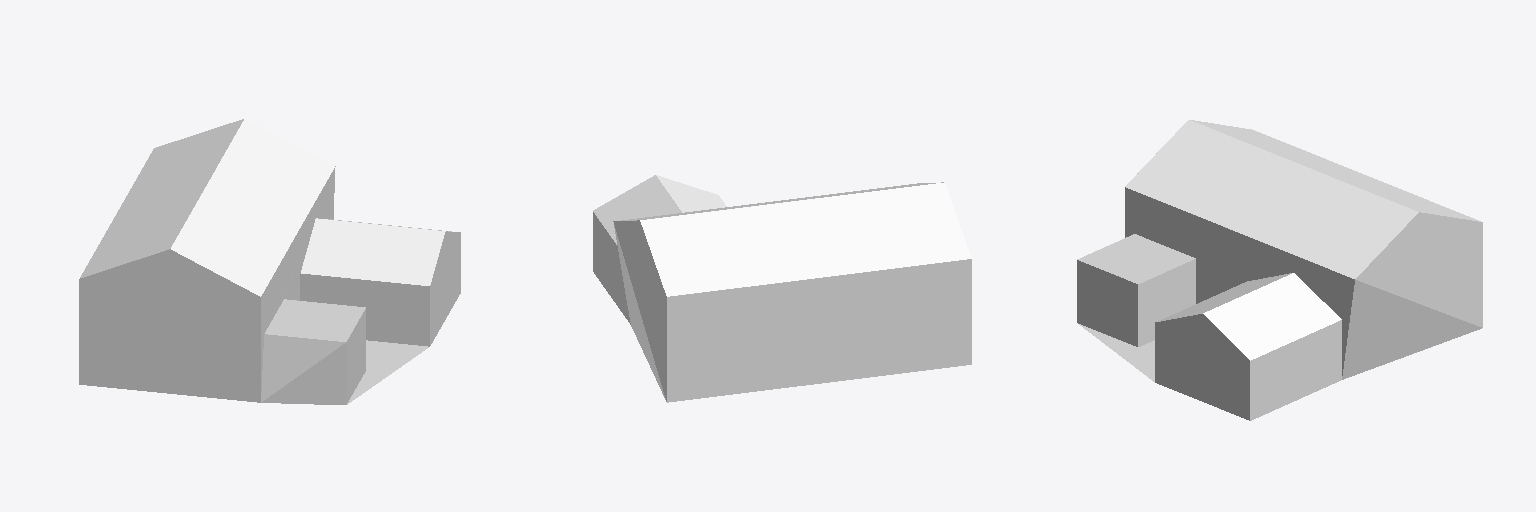
The model's file is house_Shape 272.obj.
3 renders of one model, left to right at view 1: azimuth 30°, elevation 25°; view 2: azimuth 150°, elevation 25°; view 3: azimuth 270°, elevation 25°, orthographic.
Visible parts, largest first — view 1: CityEngineMaterial_116, CityEngineMaterial_21, CityEngineMaterial_174; view 2: CityEngineMaterial_116, CityEngineMaterial_21; view 3: CityEngineMaterial_116, CityEngineMaterial_21, CityEngineMaterial_174.
Part boxes in pixels (bbox=[...]): CityEngineMaterial_116: bbox=[79, 166, 460, 404]; CityEngineMaterial_21: bbox=[80, 119, 451, 296]; CityEngineMaterial_174: bbox=[265, 299, 428, 404]; CityEngineMaterial_116: bbox=[593, 212, 971, 402]; CityEngineMaterial_21: bbox=[593, 175, 971, 296]; CityEngineMaterial_116: bbox=[1077, 153, 1482, 420]; CityEngineMaterial_21: bbox=[1125, 120, 1480, 360]; CityEngineMaterial_174: bbox=[1077, 234, 1195, 381].
Size of the model in its own units: 22.07 by 8.02 by 20.42.